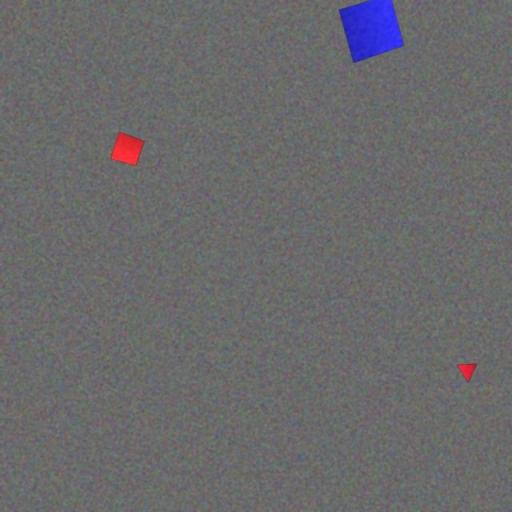BLUE_SQUARE: (338, 0, 405, 64)
RED_SQUARE: (110, 130, 144, 166)
